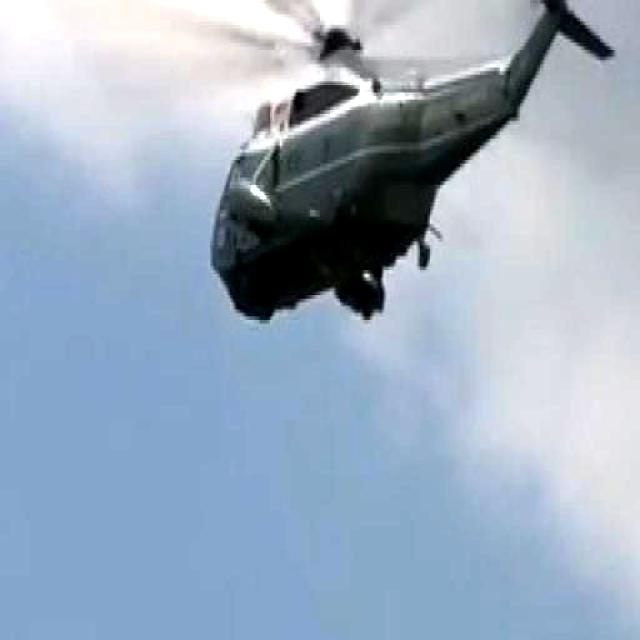drone: (151, 0, 620, 344)
